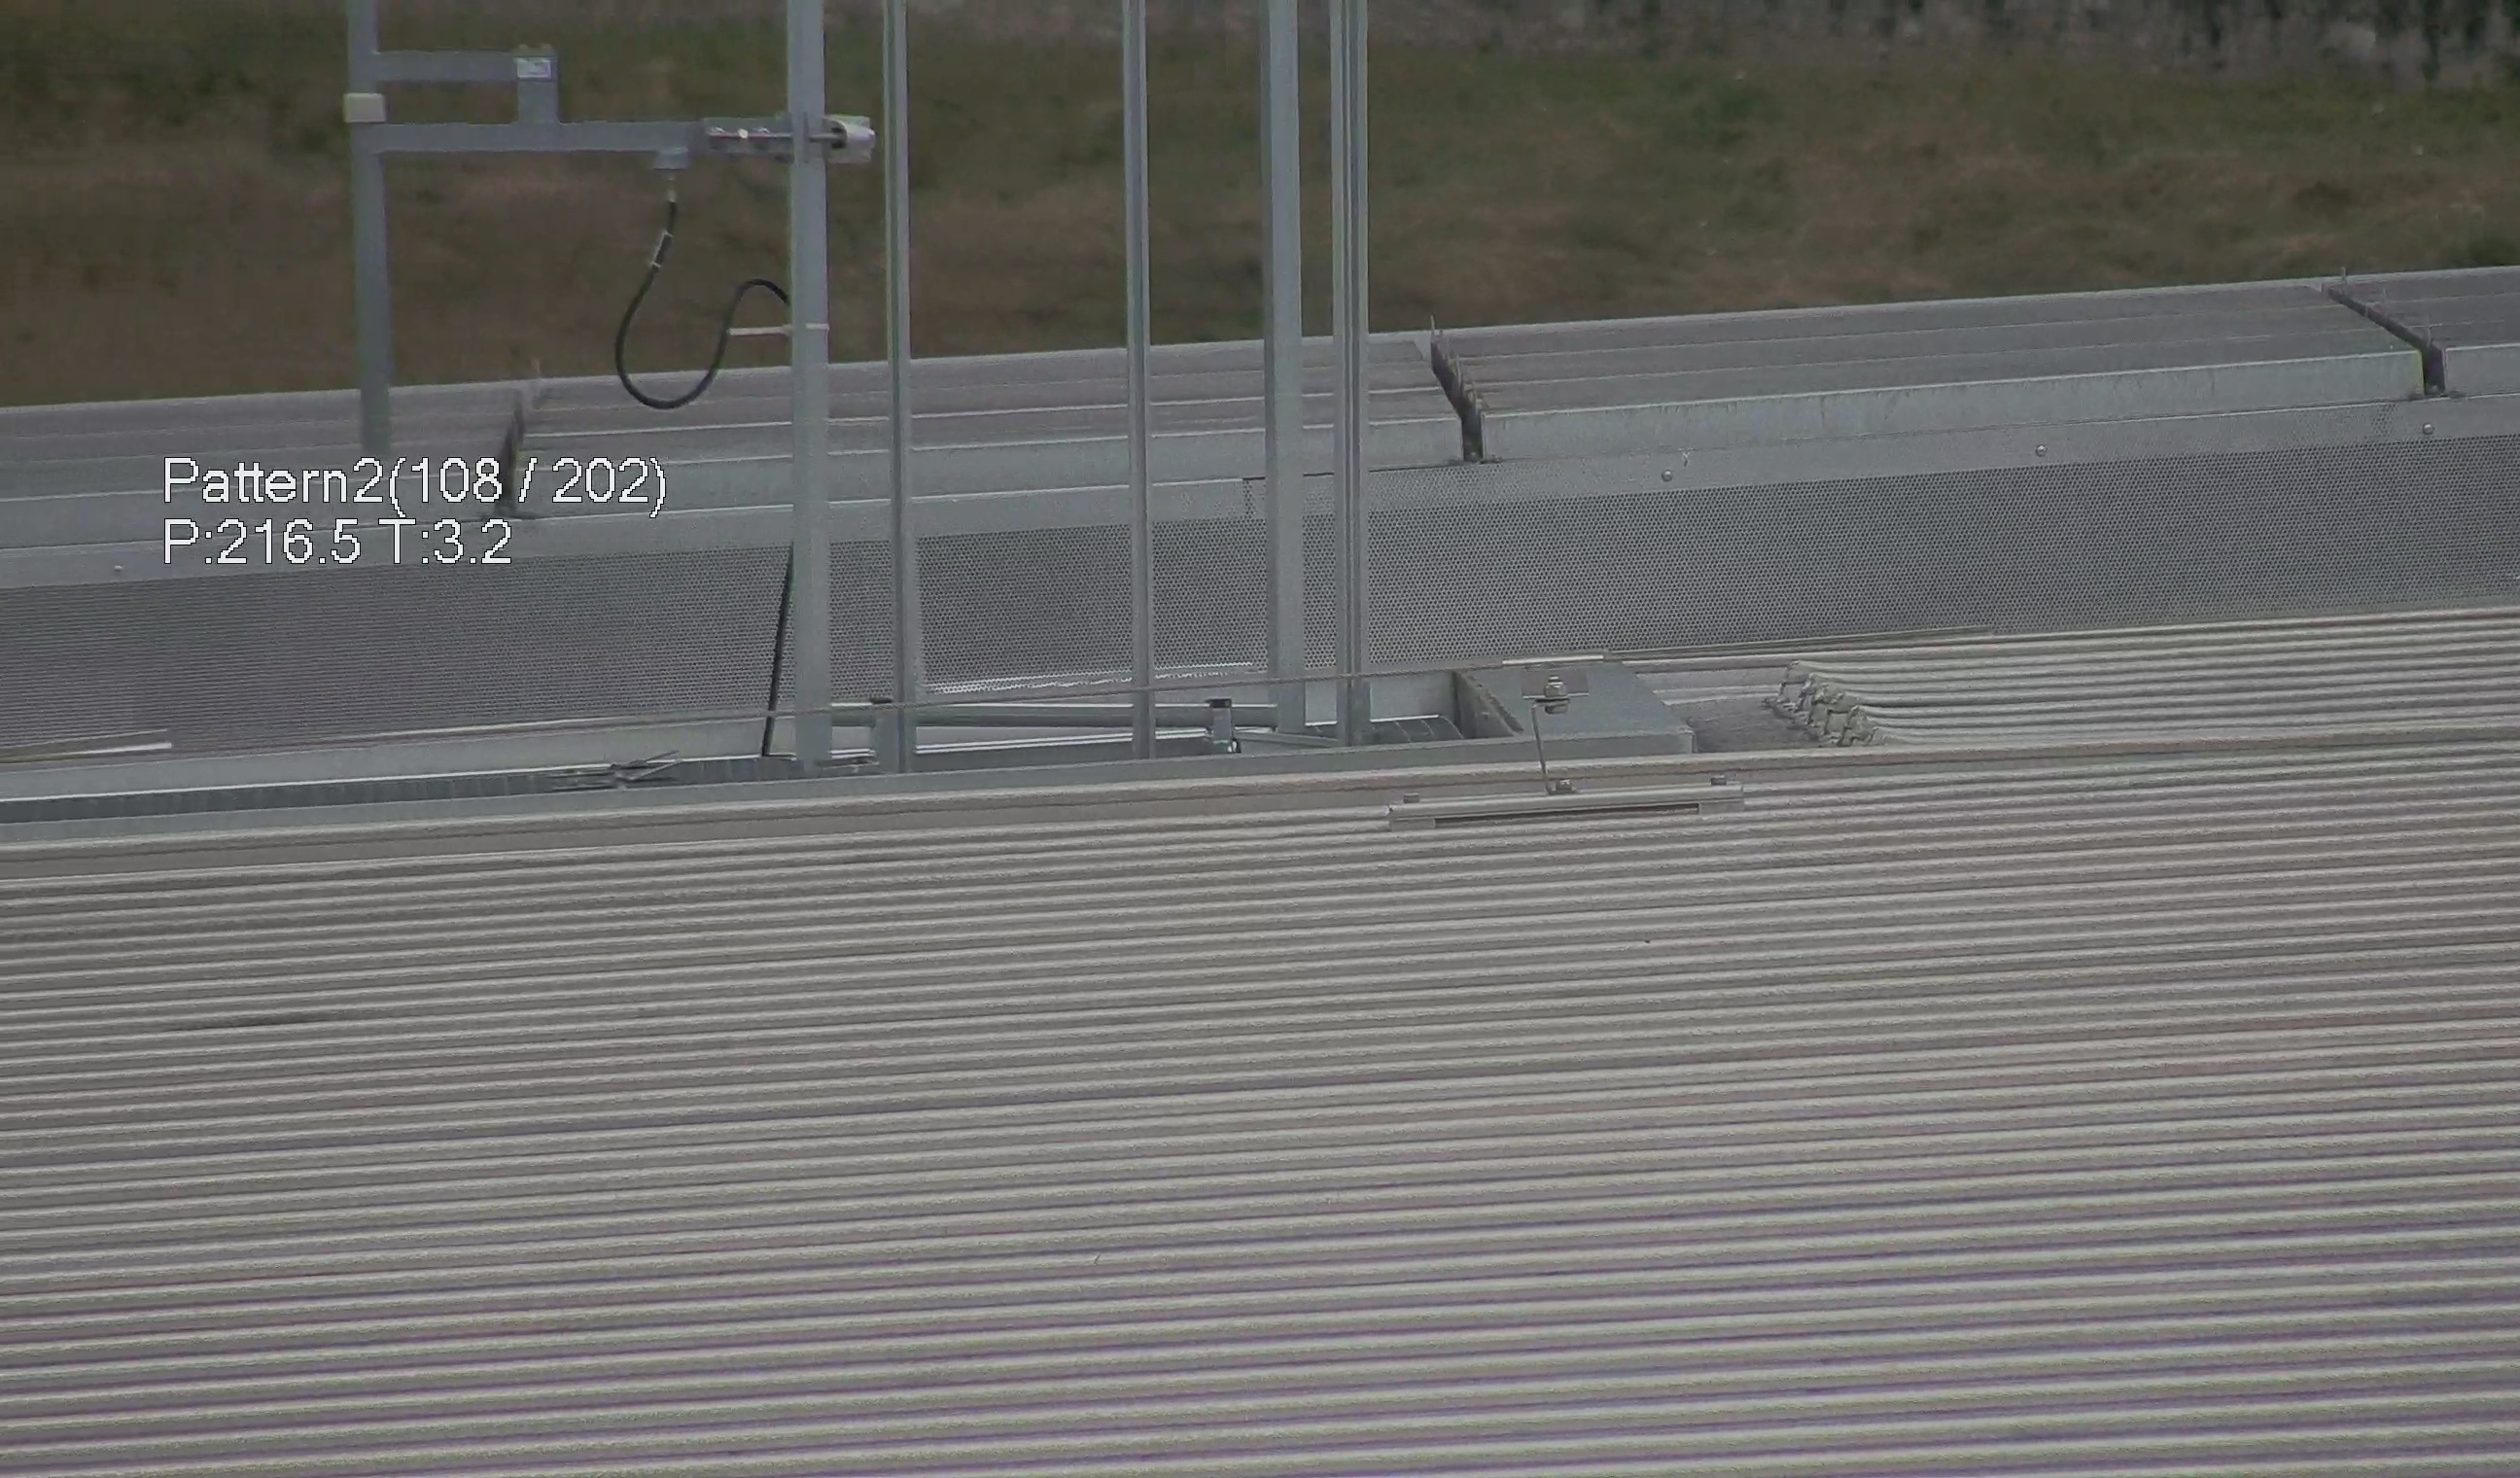Other: (1414, 310, 1505, 465)
